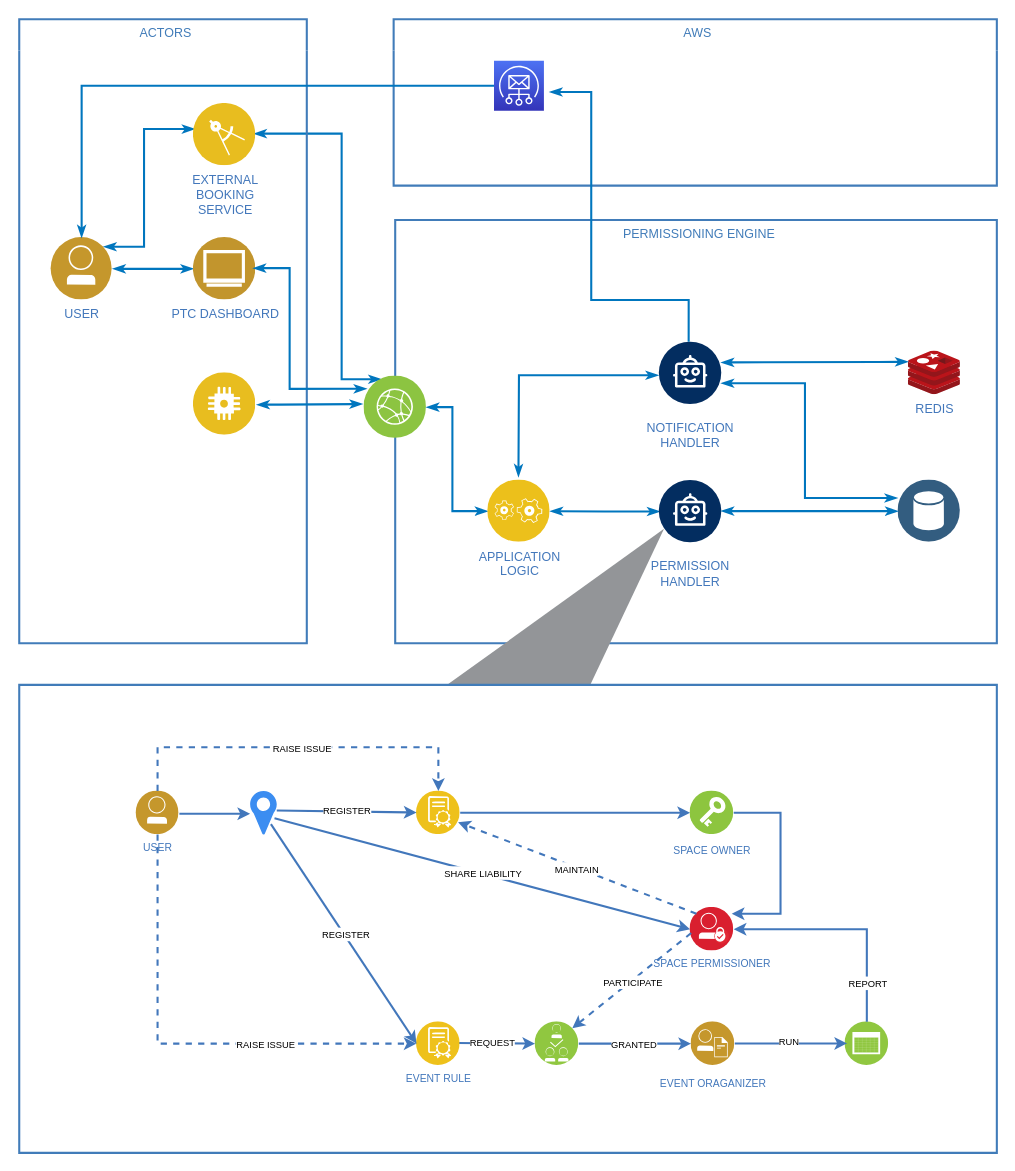
Some shapes in this 1015 by 1171 pixel diagram are drawn without their labels. The centre of each missing label's shape, as x and y in pixels:
DATABASE: the point at 929,510
EVENT: the point at 866,1043
IoT DEVICES: the point at 224,403
PERMISSION: the point at 556,1043
SIMPLE EMAIL SERVICE: the point at 518,85
SPACE: the point at 263,812
SPACE RULE: the point at 438,812
WEB SERVER: the point at 394,406
